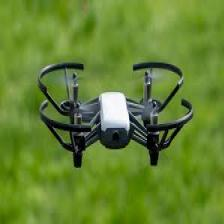drone: (37, 60, 193, 162)
